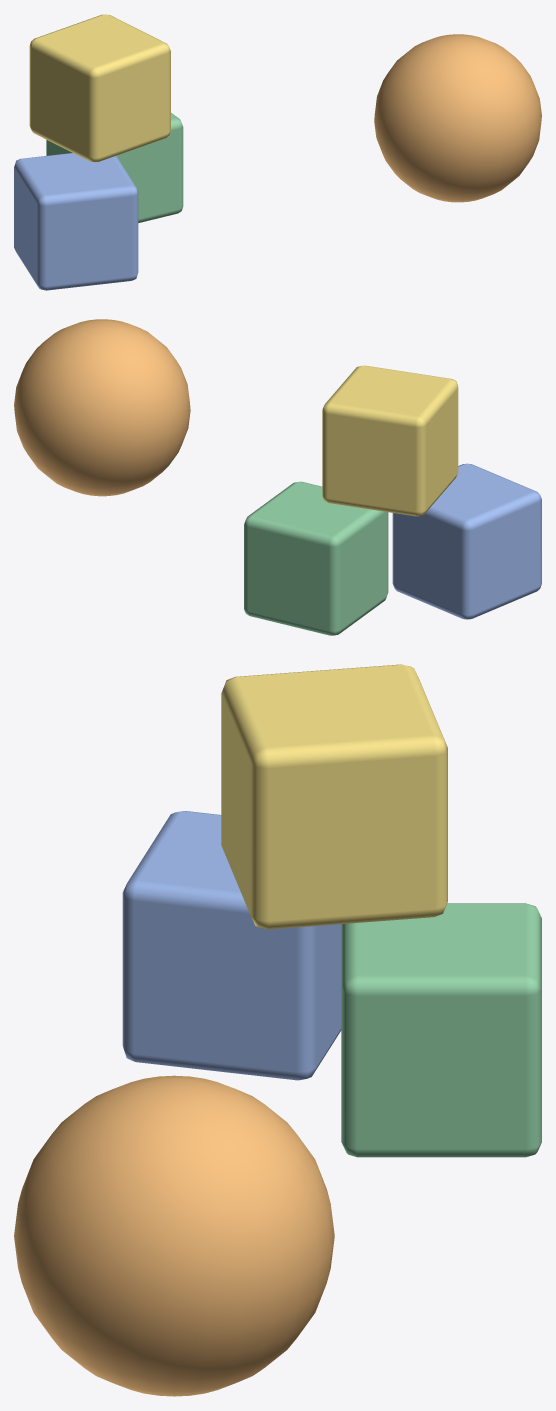
Rendered from escena.casa.juguetes.fbx.
3 renders of one model, top to bottom at view 1: azimuth 30°, elevation 25°; view 2: azimuth 150°, elevation 25°; view 3: azimuth 270°, elevation 25°, orthographic. The views are drawn at different scales.
Visible parts, largest first — view 1: Pelota, Cubo.002, Cubo.001, Cubo; view 2: Pelota, Cubo.002, Cubo, Cubo.001; view 3: Pelota, Cubo.002, Cubo, Cubo.001.
Part boxes in pixels (box(x1,y1,x2,y2)): Pelota: box(374, 34, 541, 202); Cubo.002: box(29, 14, 170, 162); Cubo.001: box(14, 153, 138, 290); Cubo: box(46, 113, 183, 222); Pelota: box(14, 319, 190, 496); Cubo.002: box(322, 365, 458, 516); Cubo: box(244, 481, 388, 635); Cubo.001: box(392, 463, 541, 619); Pelota: box(14, 1075, 334, 1396); Cubo.002: box(221, 664, 447, 929); Cubo: box(341, 903, 541, 1157); Cubo.001: box(122, 811, 341, 1080).
Size of the model in its own units: 0.8088 by 0.315 by 0.395.
